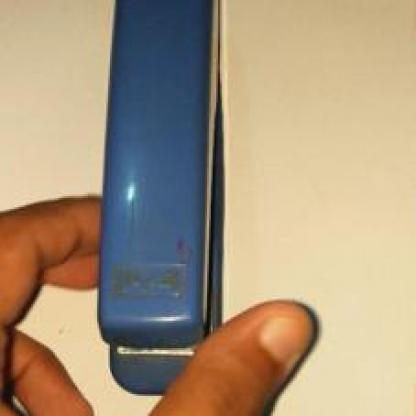stapler: (76, 1, 288, 415)
